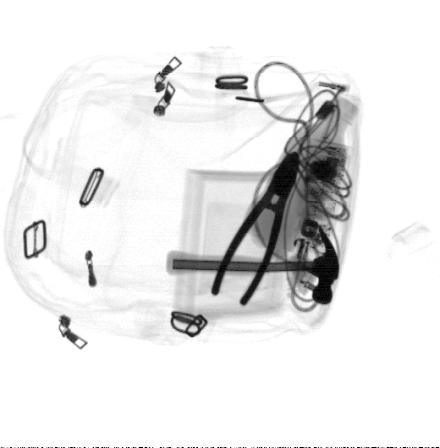Hammer: (166, 226, 340, 305)
Pliers: (211, 151, 300, 306)
